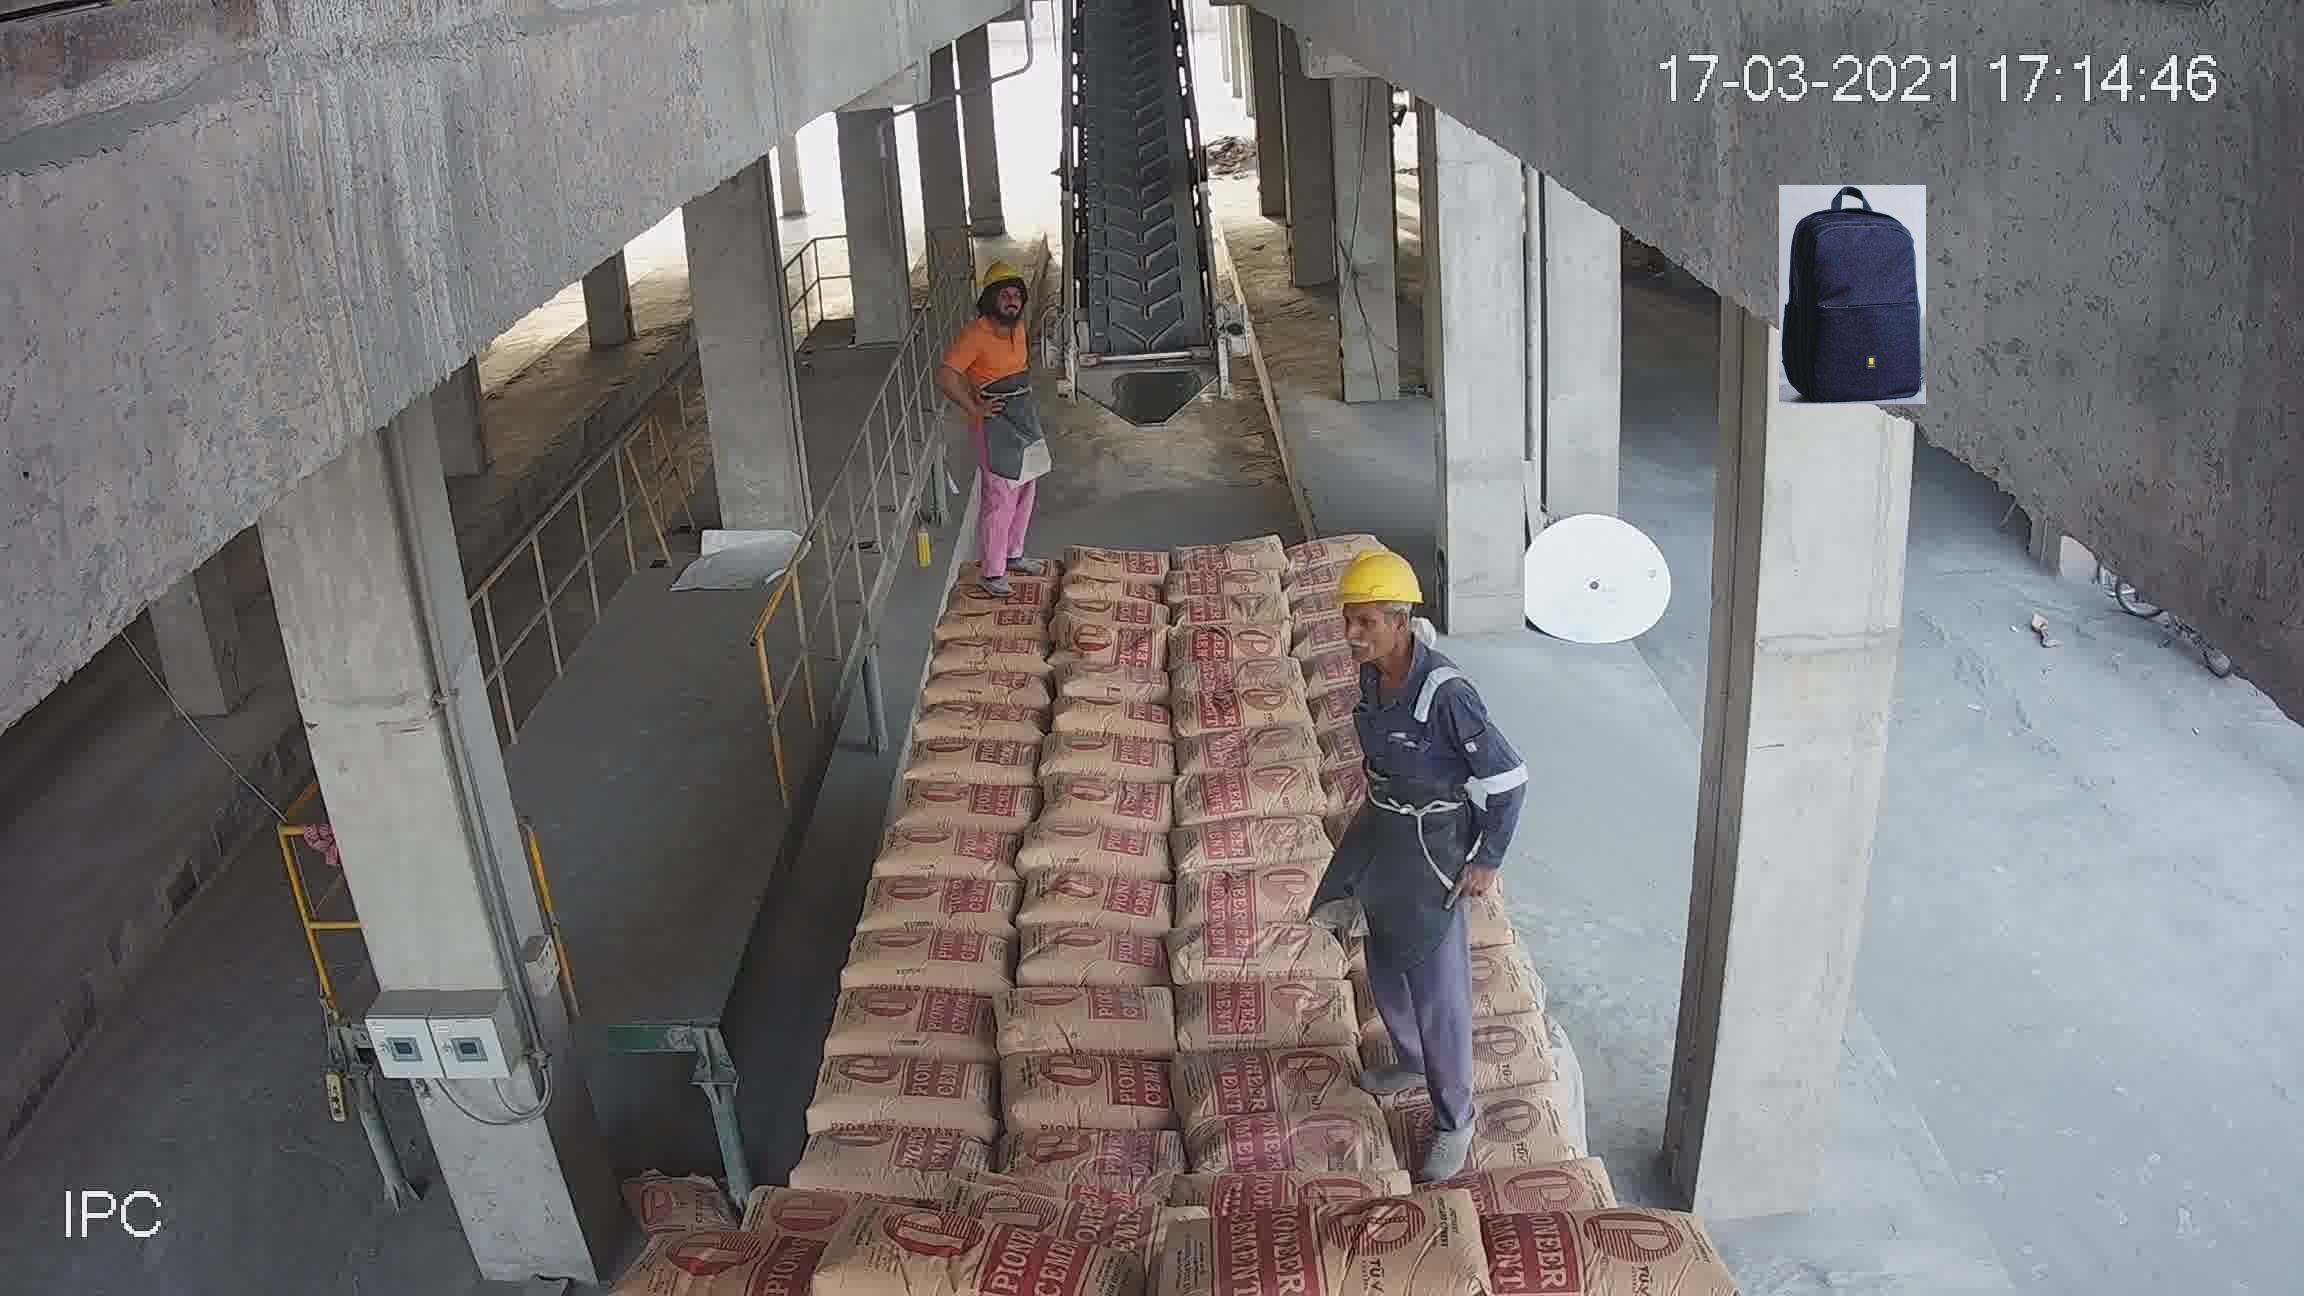bag_h: (798, 1214, 1128, 1294), (1199, 1207, 1497, 1294), (1453, 1207, 1714, 1290), (1168, 968, 1380, 1052), (1198, 1078, 1397, 1165), (809, 1057, 1008, 1136), (989, 1120, 1190, 1192), (635, 1226, 843, 1294), (999, 986, 1185, 1062), (828, 980, 1005, 1059), (1188, 1105, 1369, 1180), (1408, 1095, 1586, 1171), (1013, 1051, 1185, 1128), (786, 1128, 999, 1190), (853, 872, 1029, 946), (837, 927, 1013, 994), (1168, 859, 1328, 932), (1021, 813, 1169, 886), (1184, 926, 1353, 989), (1443, 1163, 1614, 1225), (1180, 756, 1331, 824), (1014, 932, 1176, 991), (1024, 873, 1182, 932), (1179, 812, 1324, 875), (1044, 772, 1184, 836), (892, 782, 1041, 836), (873, 829, 1021, 881), (1177, 722, 1323, 772), (908, 698, 1057, 747), (907, 736, 1041, 790), (1169, 654, 1307, 703), (1063, 609, 1168, 673), (1179, 688, 1315, 734), (910, 665, 1046, 709), (1049, 741, 1177, 786), (1060, 657, 1176, 707), (1051, 696, 1165, 745), (927, 638, 1063, 676), (1171, 619, 1290, 661), (934, 604, 1052, 646), (1166, 525, 1291, 563), (954, 581, 1062, 623), (1169, 590, 1294, 627), (1166, 567, 1285, 603), (1285, 532, 1389, 571), (1060, 600, 1177, 635), (1070, 541, 1169, 581), (1054, 574, 1165, 608)
belt: (1059, 14, 1211, 413)
